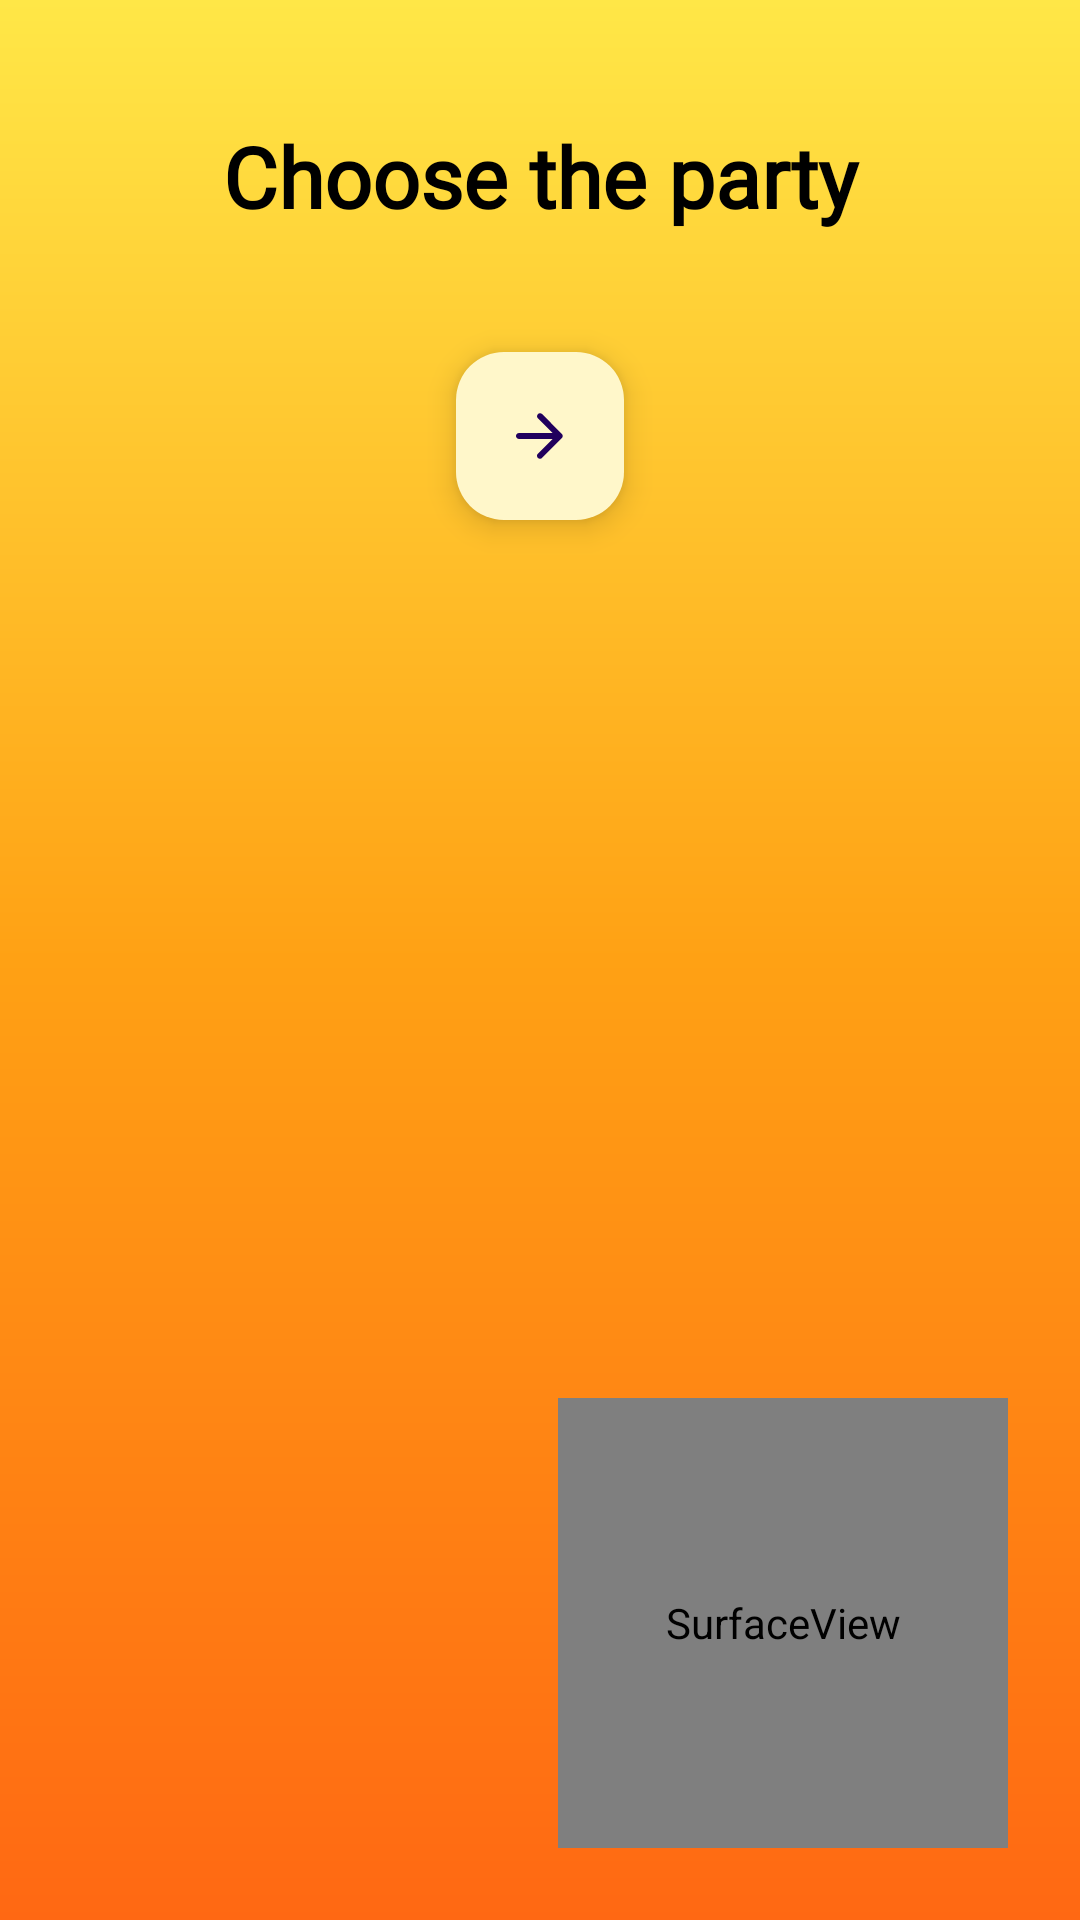

Named icons in this screenshot (1080w x 1920h) and their bounding boxes, (x1, y1, x2, y2):
proceed: (456, 352, 624, 520)
